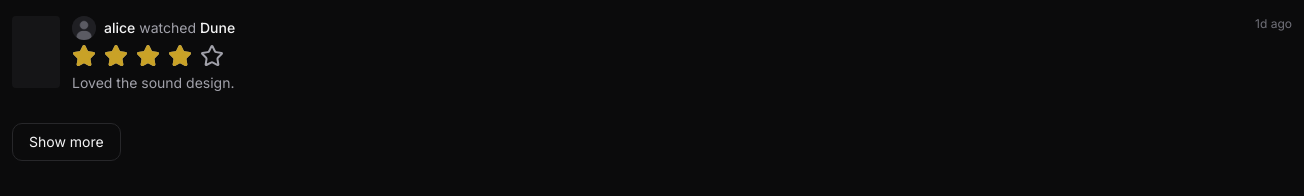
Test: ActivityFeed › appends the next page and follows its cursor
The image size is (1304, 196).
Click the button "Show more" at (66,142), box 12,123 -> 121,161
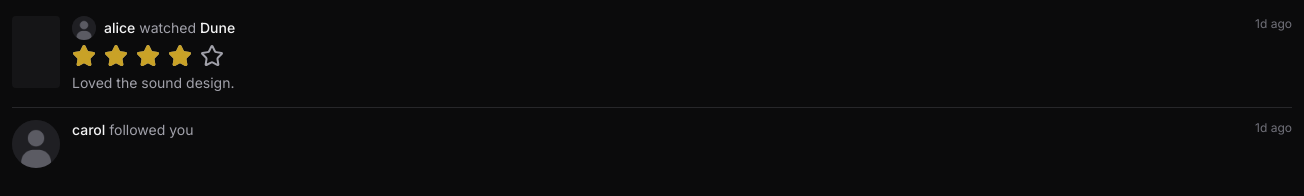
Result: the text "carol followed you" is shown at 72,120 -> 194,140
Result: the number of list items is 2 at 12,16 -> 1292,107; 12,107 -> 1292,180
Result: the button "Show more" is gone
